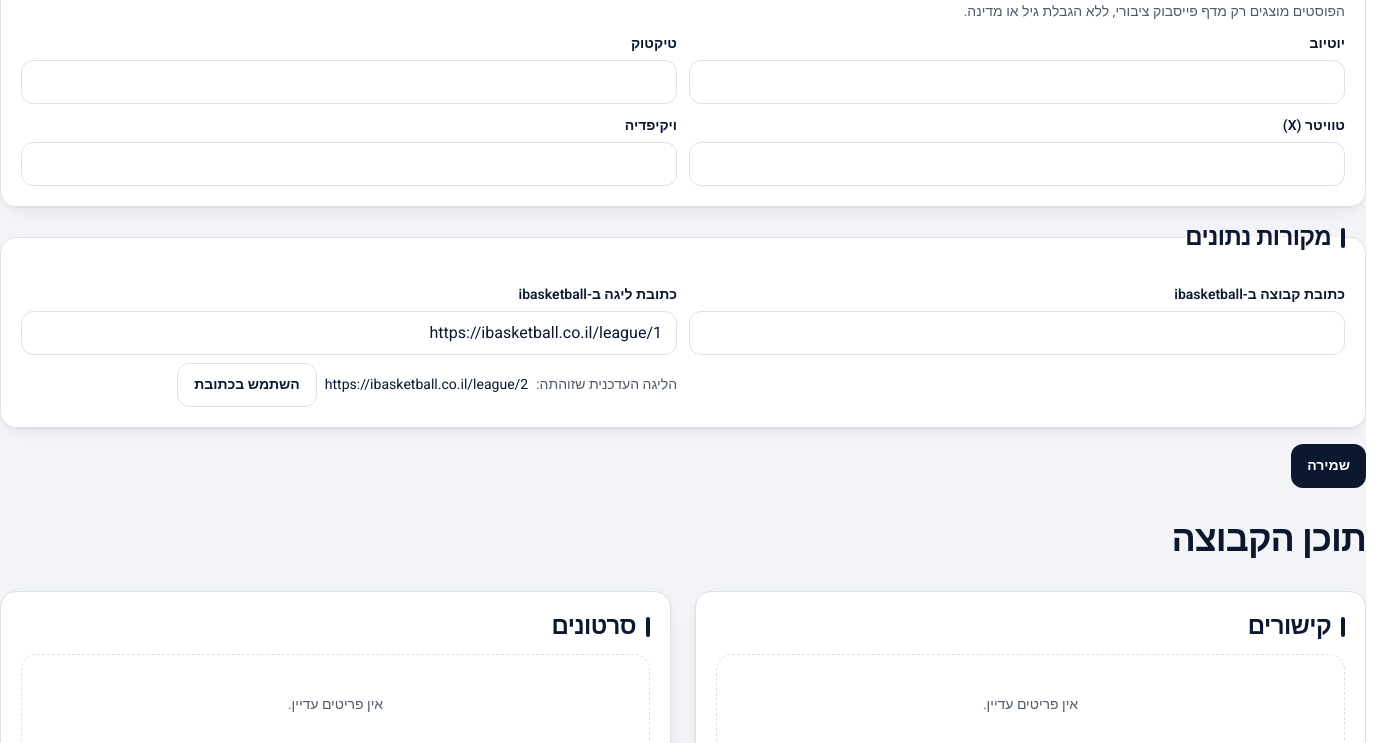
Scenario: AdminTeamEditView › offers the scraper-suggested league URL and fills the field on "use it"
(page scrolled)
Expected: the element with id "league-suggestion" shows "https://ibasketball.co.il/league/2", [325,374,528,395]
Click the button "השתמש בכתובת" at (247, 385), box [177,363,317,407]
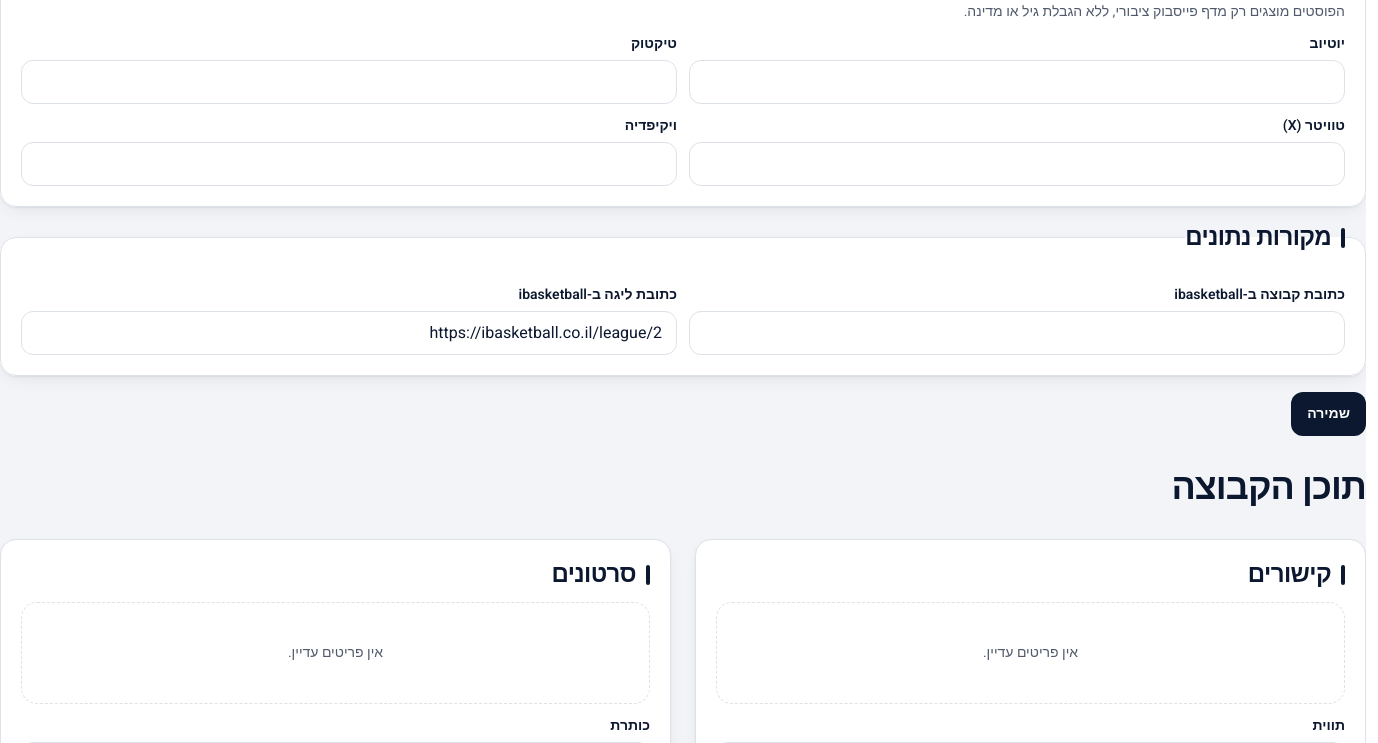
Result: the field with id "team-ibasketball_league_url" holds "https://ibasketball.co.il/league/2" at [21,311,677,355]
